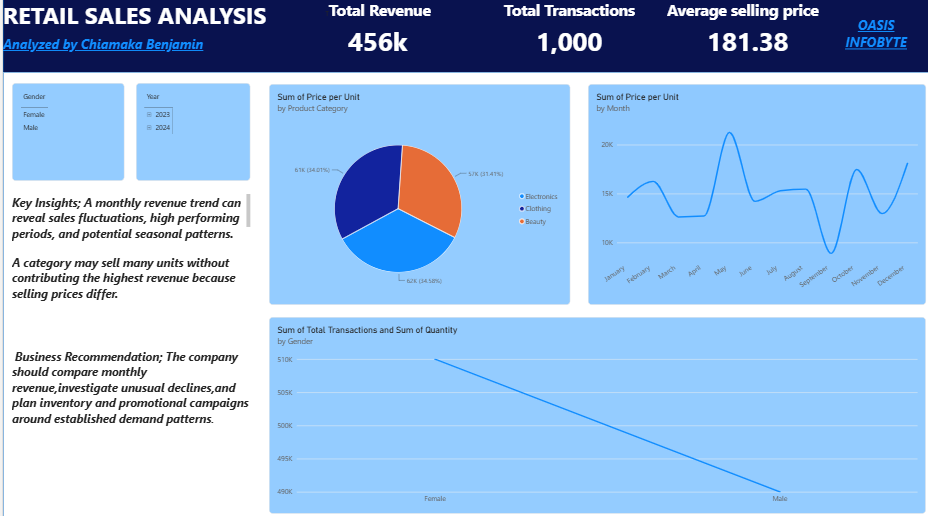

Layout of this report page (visuals, bound fields, positions):
{"tool":"powerbi","page":{"name":"Page 2","canvas":[1920,1080],"ordinal":1},"visuals":[{"type":"shape","box":[0,0,1920.2,1080],"z":0},{"type":"shape","box":[0,150,1920,930],"z":1000},{"type":"textbox","box":[0,0,548.6,149],"z":2000},{"type":"textbox","box":[585.4,0,375.8,149],"z":3000},{"type":"textbox","box":[604.8,49.7,337,82.1],"z":4000},{"type":"textbox","box":[985,0,369.4,149],"z":5000},{"type":"textbox","box":[1000.1,49.7,339.1,82.1],"z":6000},{"type":"textbox","box":[100,100,300,300],"z":7000},{"type":"textbox","box":[1371.6,0,330.5,149],"z":8000},{"type":"textbox","box":[1386.7,49.7,300.2,82.1],"z":9000},{"type":"textbox","box":[1702.1,34.6,203,97.2],"z":10000},{"type":"lineChart","fields":{"Category":["retail_sales_dataset.Date.Variation.Date Hierarchy.Month","retail_sales_dataset.Date.Variation.Date Hierarchy.Day"],"Y":["Sum(retail_sales_dataset.Price per Unit)"]},"box":[1207.4,175,697.7,455.8],"z":11000},{"type":"pieChart","fields":{"Category":["retail_sales_dataset.Product Category"],"Y":["Sum(retail_sales_dataset.Price per Unit)"]},"box":[548.6,175,622.1,455.8],"z":12000},{"type":"lineChart","fields":{"Category":["retail_sales_dataset.Gender"],"Y":["Sum(retail_sales_dataset.Total Transactions)"]},"box":[548.6,656.6,1356.5,406.1],"z":13000},{"type":"tableEx","fields":{"Values":["retail_sales_dataset.Gender"]},"box":[18,174,232,202],"z":14000},{"type":"pivotTable","fields":{"Rows":["retail_sales_dataset.Date.Variation.Date Hierarchy.Year","retail_sales_dataset.Date.Variation.Date Hierarchy.Quarter","retail_sales_dataset.Date.Variation.Date Hierarchy.Month","retail_sales_dataset.Date.Variation.Date Hierarchy.Day"]},"box":[274,174,236,202],"z":15000},{"type":"textbox","box":[18,402,492,108],"z":16000},{"type":"textbox","box":[18,526,492,148],"z":17000},{"type":"textbox","box":[18,720,492,236],"z":18000},{"type":"textbox","box":[0,74,548,76],"z":18001}]}

Visuals, with their boxes in screenshot pixels (x1, y1, x2, y2), scaled from the page's 1920x1080 canvas onto the 928x516 screenshot:
shape: region(0, 0, 927, 515)
shape: region(0, 72, 927, 515)
textbox: region(0, 0, 265, 71)
textbox: region(283, 0, 465, 71)
textbox: region(292, 24, 455, 63)
textbox: region(476, 0, 655, 71)
textbox: region(483, 24, 647, 63)
textbox: region(48, 48, 193, 191)
textbox: region(663, 0, 823, 71)
textbox: region(670, 24, 815, 63)
textbox: region(823, 17, 921, 63)
lineChart - retail_sales_dataset.Date.Variation.Date Hierarchy.Month x retail_sales_dataset.Date.Variation.Date Hierarchy.Day: region(584, 84, 921, 301)
pieChart - retail_sales_dataset.Product Category x Sum(retail_sales_dataset.Price per Unit): region(265, 84, 566, 301)
lineChart - retail_sales_dataset.Gender x Sum(retail_sales_dataset.Total Transactions): region(265, 314, 921, 508)
tableEx - retail_sales_dataset.Gender: region(9, 83, 121, 180)
pivotTable - retail_sales_dataset.Date.Variation.Date Hierarchy.Year x retail_sales_dataset.Date.Variation.Date Hierarchy.Quarter: region(132, 83, 246, 180)
textbox: region(9, 192, 246, 244)
textbox: region(9, 251, 246, 322)
textbox: region(9, 344, 246, 457)
textbox: region(0, 35, 265, 72)
